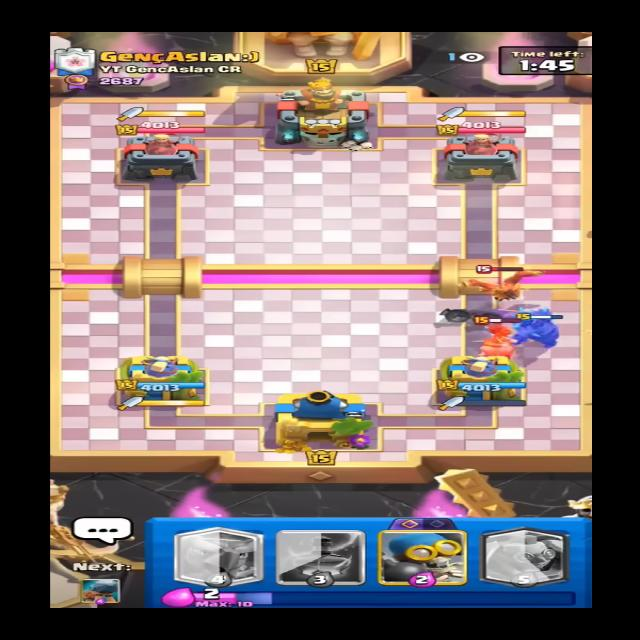Pheonix: (451, 260, 553, 308)
Ramrider: (471, 318, 533, 365)
